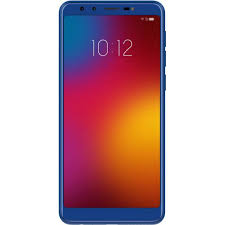lenovo: (55, 1, 167, 225)
